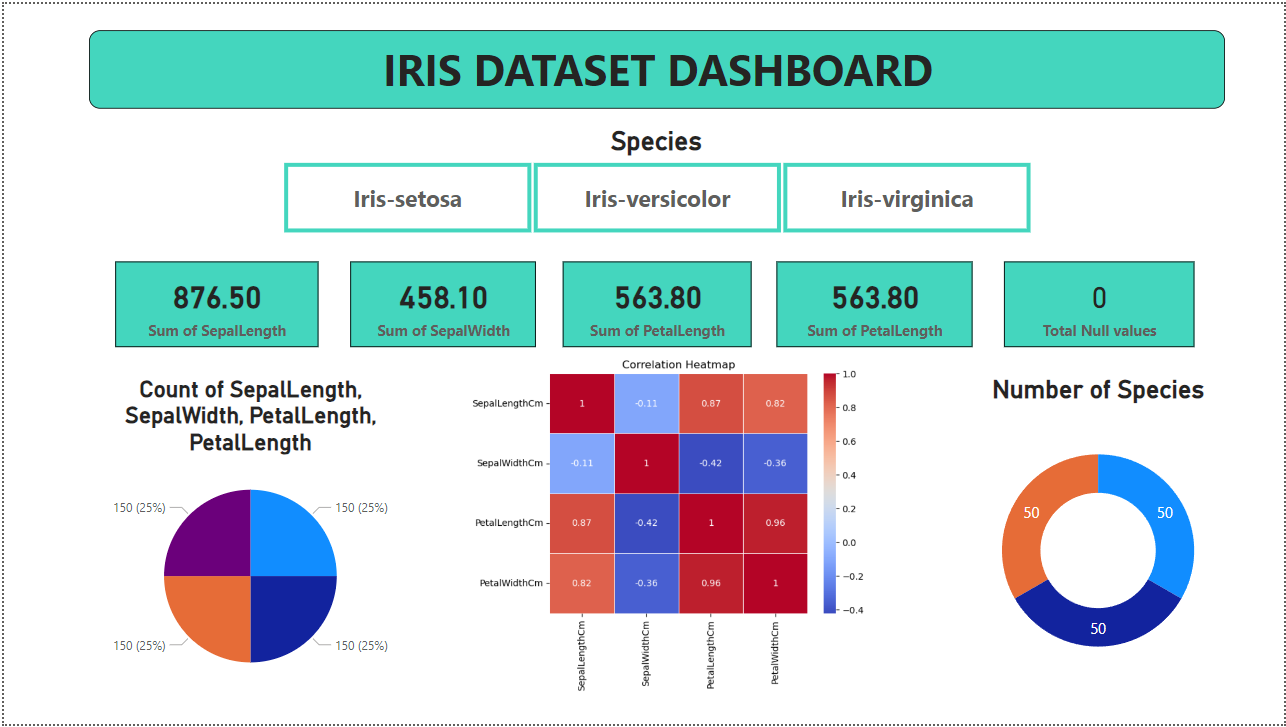

The dashboard page shown, as its layout file describes it:
{"tool":"powerbi","page":{"name":"Page 1","canvas":[1280,720],"ordinal":0},"visuals":[{"type":"slicer","title":"Species","fields":{"Values":["Iris.Species"]},"box":[254.3,121.4,797.1,114.3],"z":0},{"type":"textbox","box":[85.1,26.1,1136.2,78.2],"z":1000},{"type":"card","fields":{"Values":["Sum(Iris.SepalLength)"]},"box":[111.4,257.1,202.9,85.7],"z":2000},{"type":"card","fields":{"Values":["Sum(Iris.SepalWidth)"]},"box":[345.7,257.1,185.7,85.7],"z":3000},{"type":"card","fields":{"Values":["Sum(Iris.PetalLength)"]},"box":[558.6,257.1,188.6,85.7],"z":4000},{"type":"card","fields":{"Values":["Sum(Iris.PetalLength)"]},"box":[772.9,257.1,195.7,85.7],"z":5000},{"type":"donutChart","title":"Number of Species","fields":{"Category":["Iris.Species"],"Y":["CountNonNull(Iris.Species)"]},"box":[930,371.4,328.6,322.9],"z":6000},{"type":"pieChart","title":"Count of SepalLength, SepalWidth, PetalLength, PetalLength","fields":{"Y":["CountNonNull(Iris.SepalWidth)","CountNonNull(Iris.SepalLength)","CountNonNull(Iris.PetalWidth)","CountNonNull(Iris.PetalLength)"]},"box":[68.6,371.4,355.7,322.9],"z":7000},{"type":"image","box":[451.5,343.1,448.7,377.4],"z":8000},{"type":"card","fields":{"Values":["Iris.count_null"]},"box":[1000,257.1,190,85.7],"z":9000}]}

Visuals, with their boxes in screenshot pixels (x1, y1, x2, y2), scaled from the page's 1280x720 canvas onto the 1286x727 screenshot:
"Species" slicer: l=255, t=123, r=1056, b=238
textbox: l=85, t=26, r=1227, b=105
card - Sum(Iris.SepalLength): l=112, t=260, r=316, b=346
card - Sum(Iris.SepalWidth): l=347, t=260, r=534, b=346
card - Sum(Iris.PetalLength): l=561, t=260, r=751, b=346
card - Sum(Iris.PetalLength): l=777, t=260, r=973, b=346
"Number of Species" donutChart: l=934, t=375, r=1264, b=701
"Count of SepalLength, SepalWidth, PetalLength, PetalLength" pieChart: l=69, t=375, r=426, b=701
image: l=454, t=346, r=904, b=726
card - Iris.count_null: l=1005, t=260, r=1196, b=346
